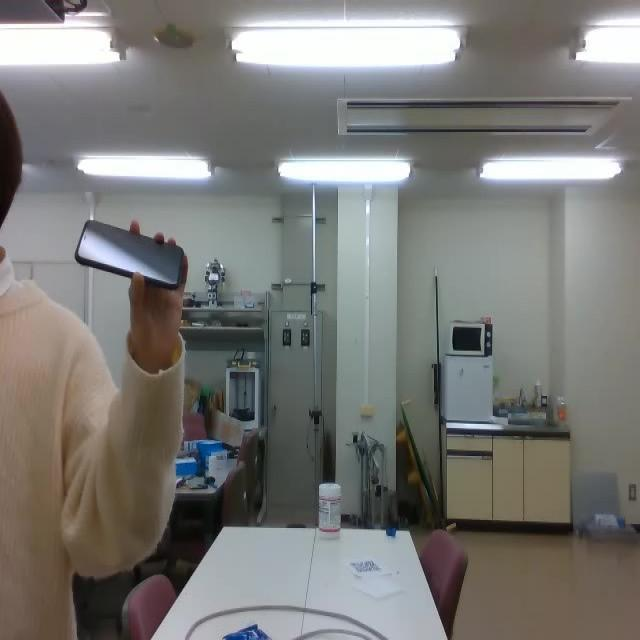Phone: (74, 218, 186, 292)
